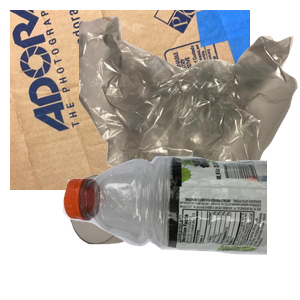cardboard: (10, 10, 250, 190)
glass: (67, 172, 229, 300)
plastic: (60, 152, 300, 300)
trash: (79, 14, 300, 194)
